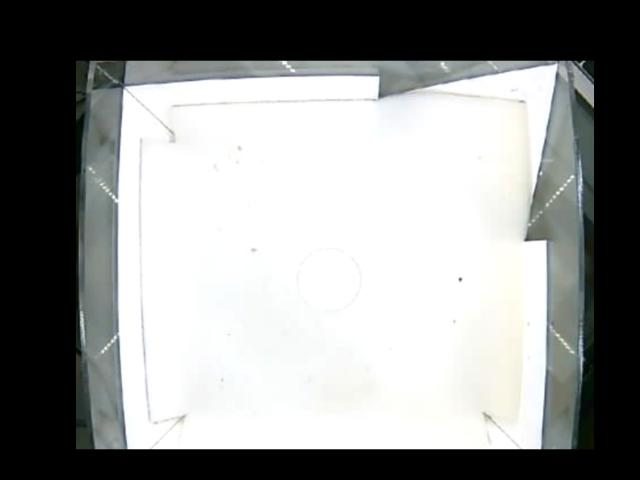Bottle: (296, 248, 361, 309)
